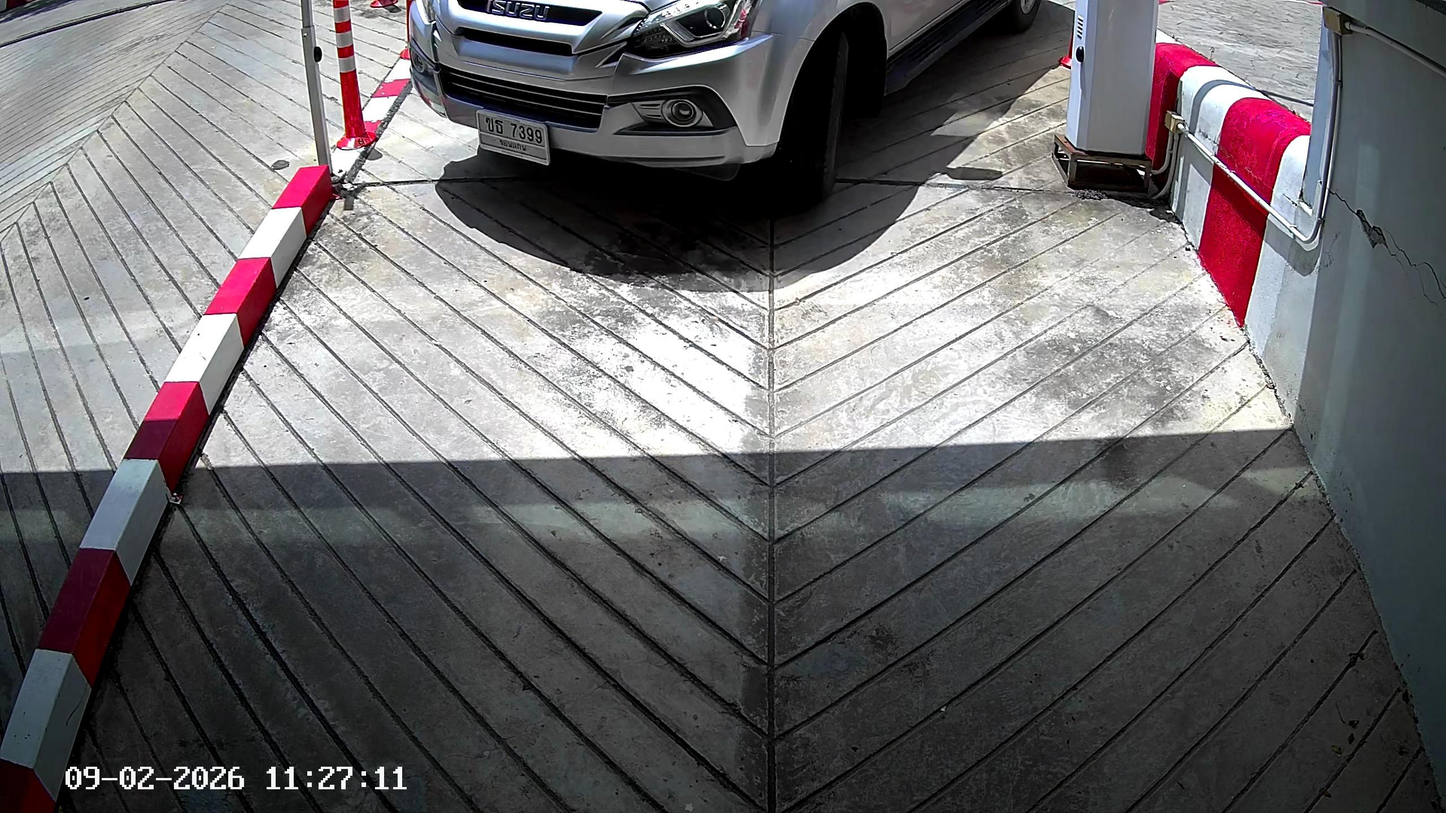car: (407, 0, 1045, 211)
license-plate: (476, 104, 553, 170)
